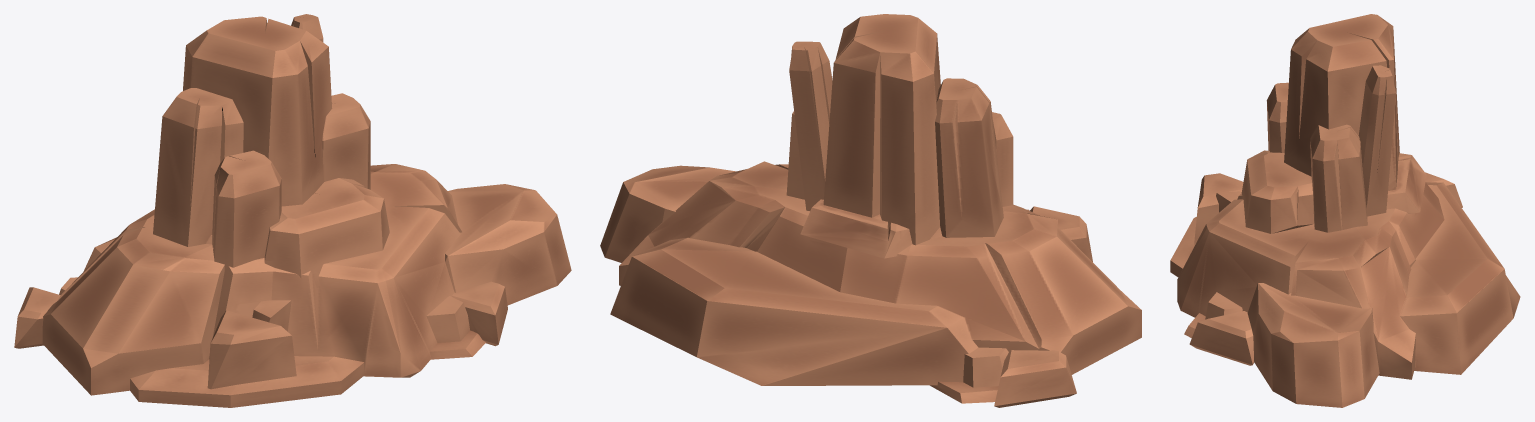
Rendered from midle_rock_02.glb.
3 renders of one model, left to right at view 1: azimuth 30°, elevation 25°; view 2: azimuth 150°, elevation 25°; view 3: azimuth 270°, elevation 25°, orthographic. The views are drawn at different scales.
Visible parts, largest first — view 1: Cube.006_Midle_rock_1_0; view 2: Cube.006_Midle_rock_1_0; view 3: Cube.006_Midle_rock_1_0.
Boxes of the visible parts, box(x1,y1,x2,y2) form: Cube.006_Midle_rock_1_0: box(14, 14, 571, 407); Cube.006_Midle_rock_1_0: box(600, 14, 1141, 407); Cube.006_Midle_rock_1_0: box(1170, 14, 1520, 407).
Size of the model in its own units: 7.62 by 4.34 by 5.16.
Materials: 1 (1 with a texture image).
